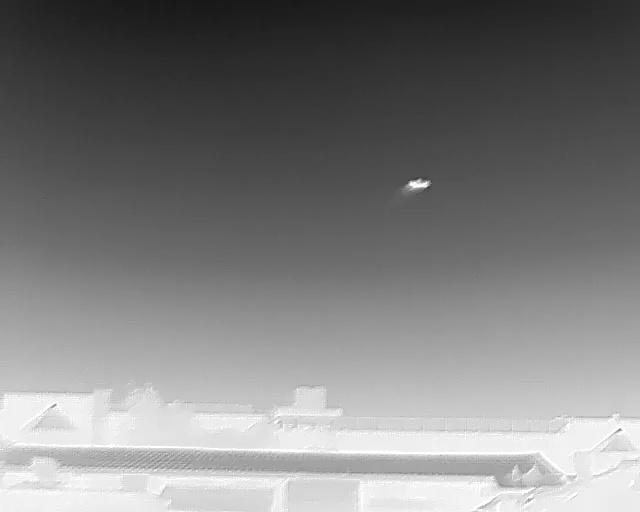fpv-drone: (403, 179, 430, 193)
